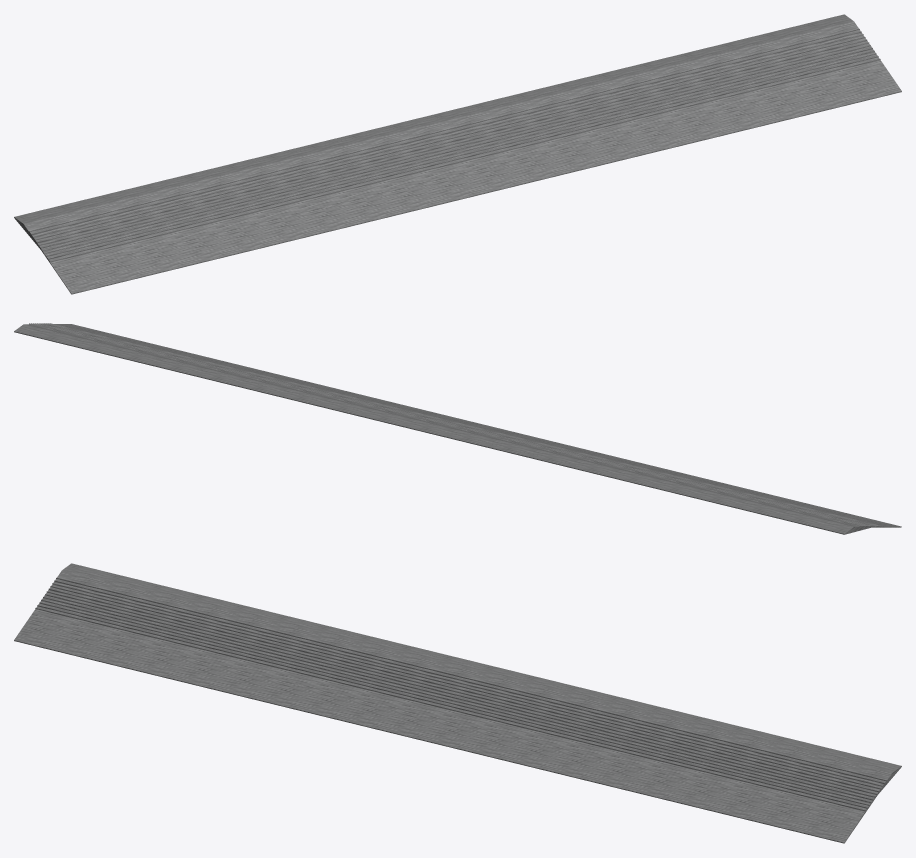
The model's file is corniere-inclinee-1ml.glb.
3 views of the same model, one above another, from view 1: azimuth 30°, elevation 25°; view 2: azimuth 150°, elevation 25°; view 3: azimuth 330°, elevation 25° (orthographic).
Visible parts, largest first — view 1: corniere-inclinee; view 2: corniere-inclinee; view 3: corniere-inclinee.
Boxes of the visible parts, bbox=[...] form: corniere-inclinee: bbox=[14, 14, 901, 294]; corniere-inclinee: bbox=[14, 323, 901, 534]; corniere-inclinee: bbox=[14, 563, 901, 843].
Bounding box in the file's own units: 1 × 0.041 × 0.12.
Materials: 1 (1 with a texture image).
